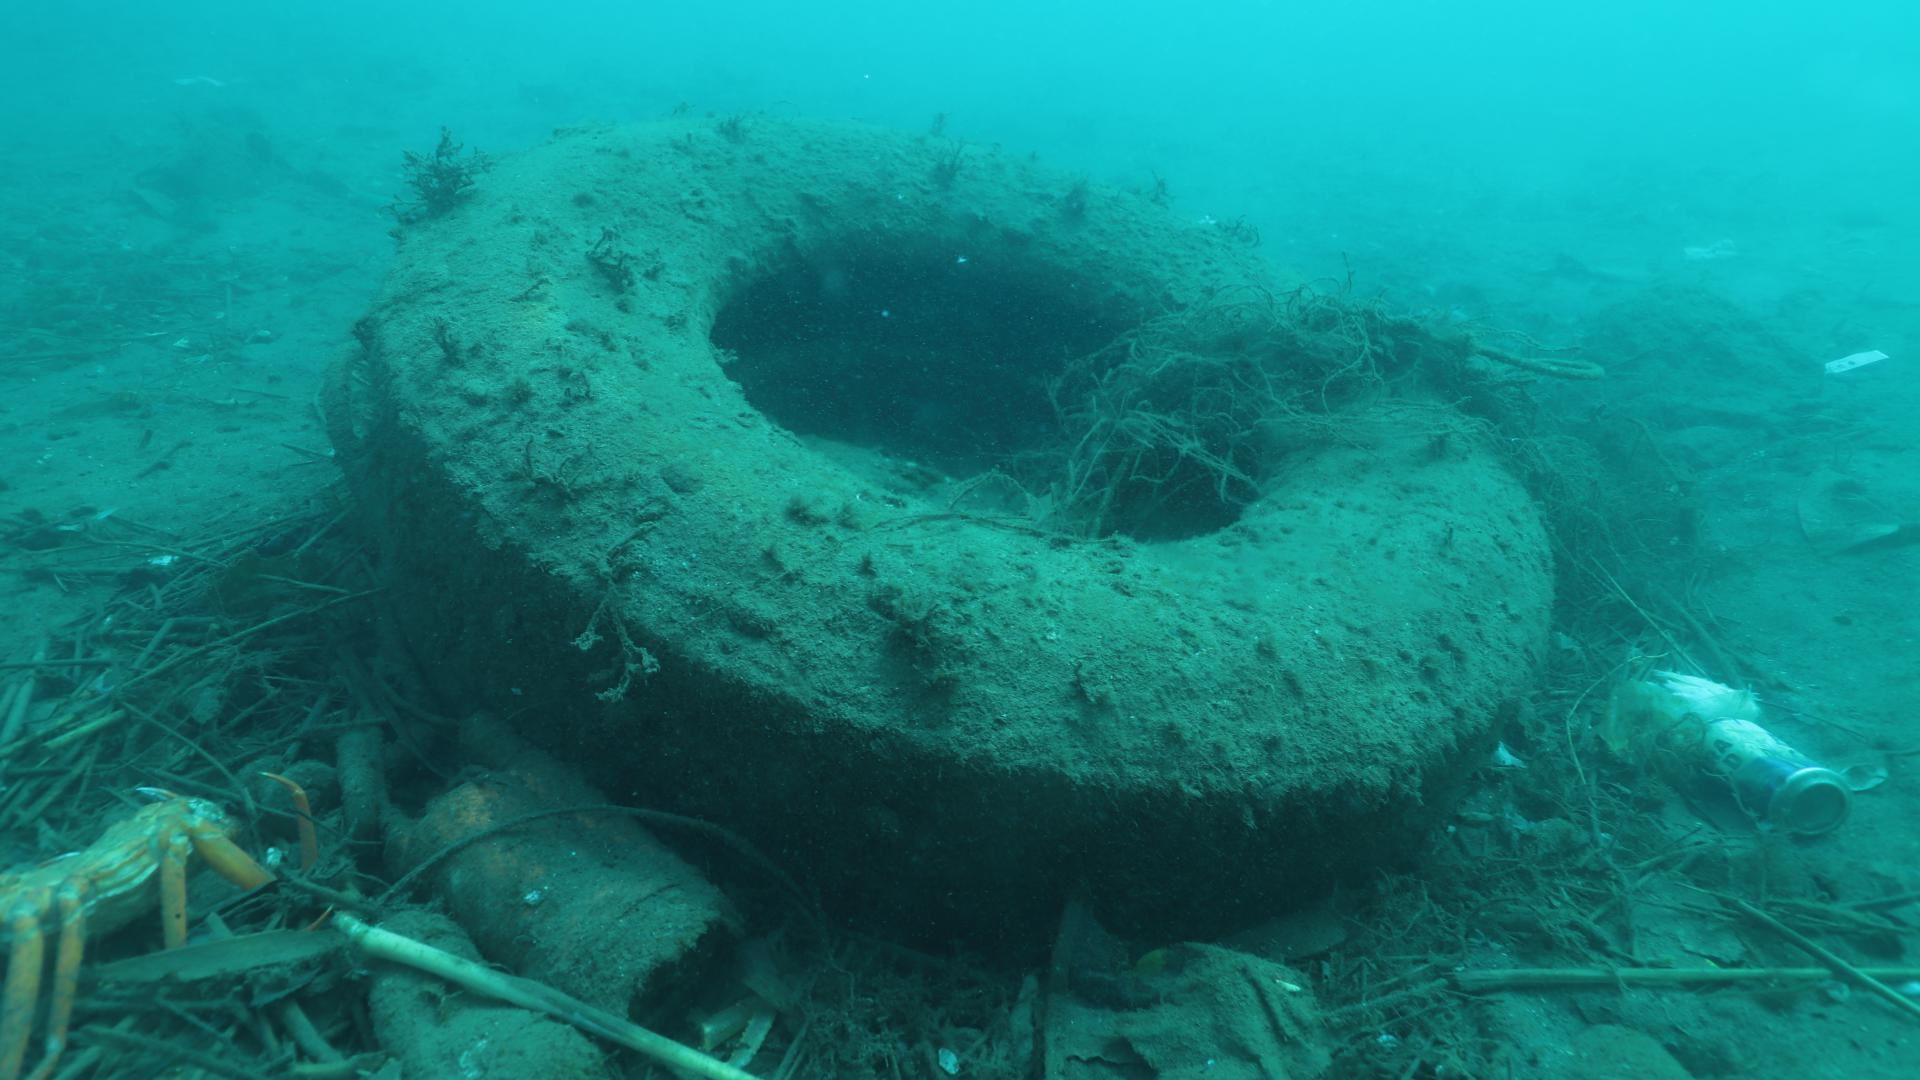tire: (368, 109, 1557, 977)
